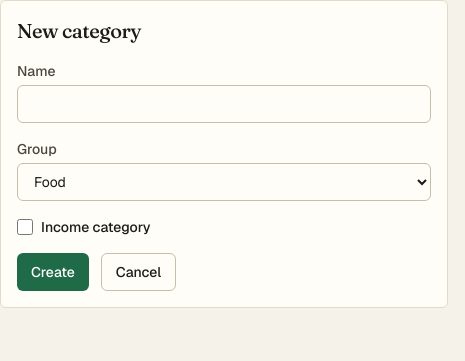
Test: CategoryForm › keeps the form open with an inline error when the API rejects
In the field labelled "Name": (224, 104) [17,85,431,123], type "Coffee"
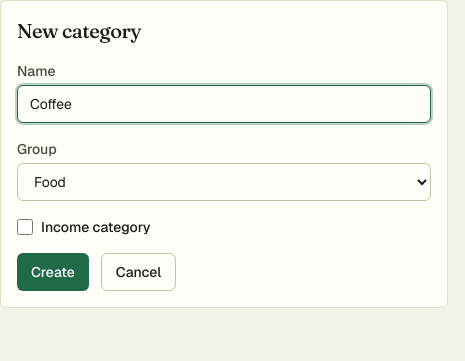
Click the button "Create": (53, 272) [17,253,89,291]
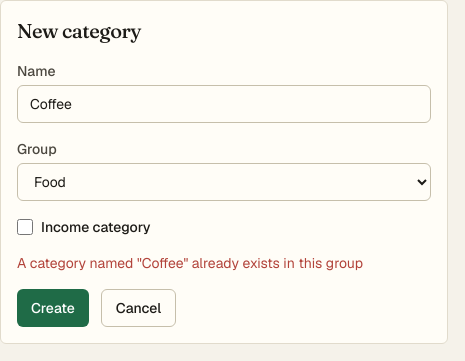
Expected: the text "A category named \"Coffee\" already exists in this group" is shown, [17,254,363,272]
